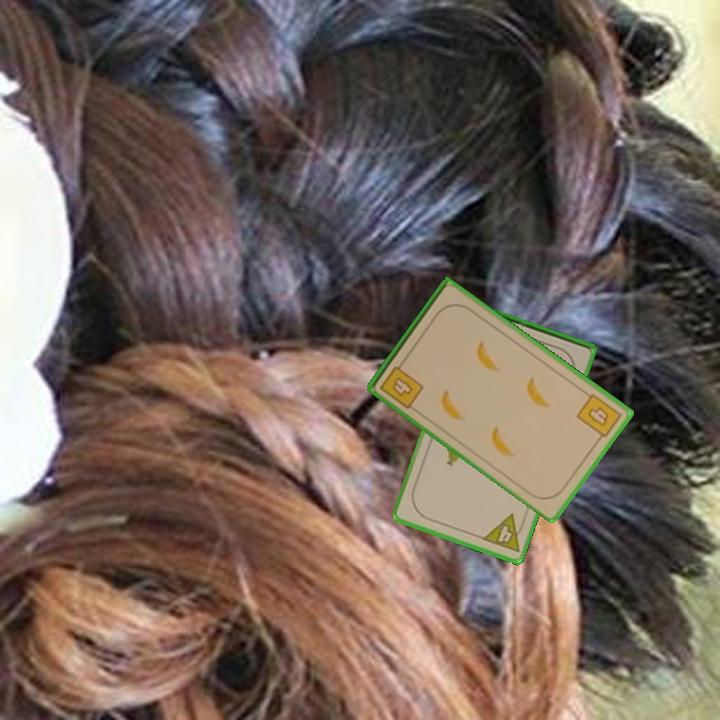4b: (573, 390, 625, 445), (376, 356, 427, 412)
4p: (479, 510, 529, 556)
